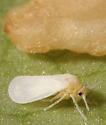whitefly: (8, 74, 90, 120)
